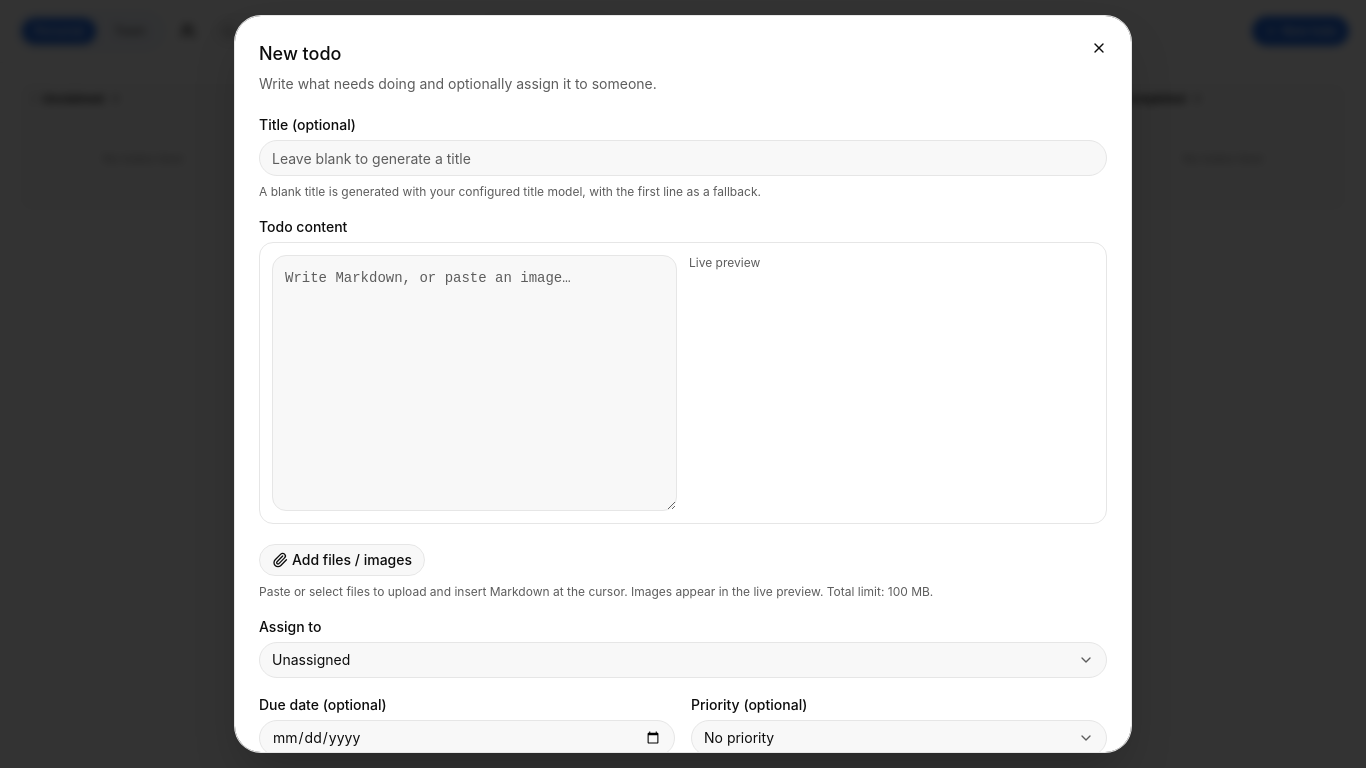
Test case: independent todo board › carries a conversation share request through the todo editor
Step 1. Type "Follow up on this conversation" into the text box labelled "Todo content" → (474,383), box [272,255,677,511]
(page scrolled)
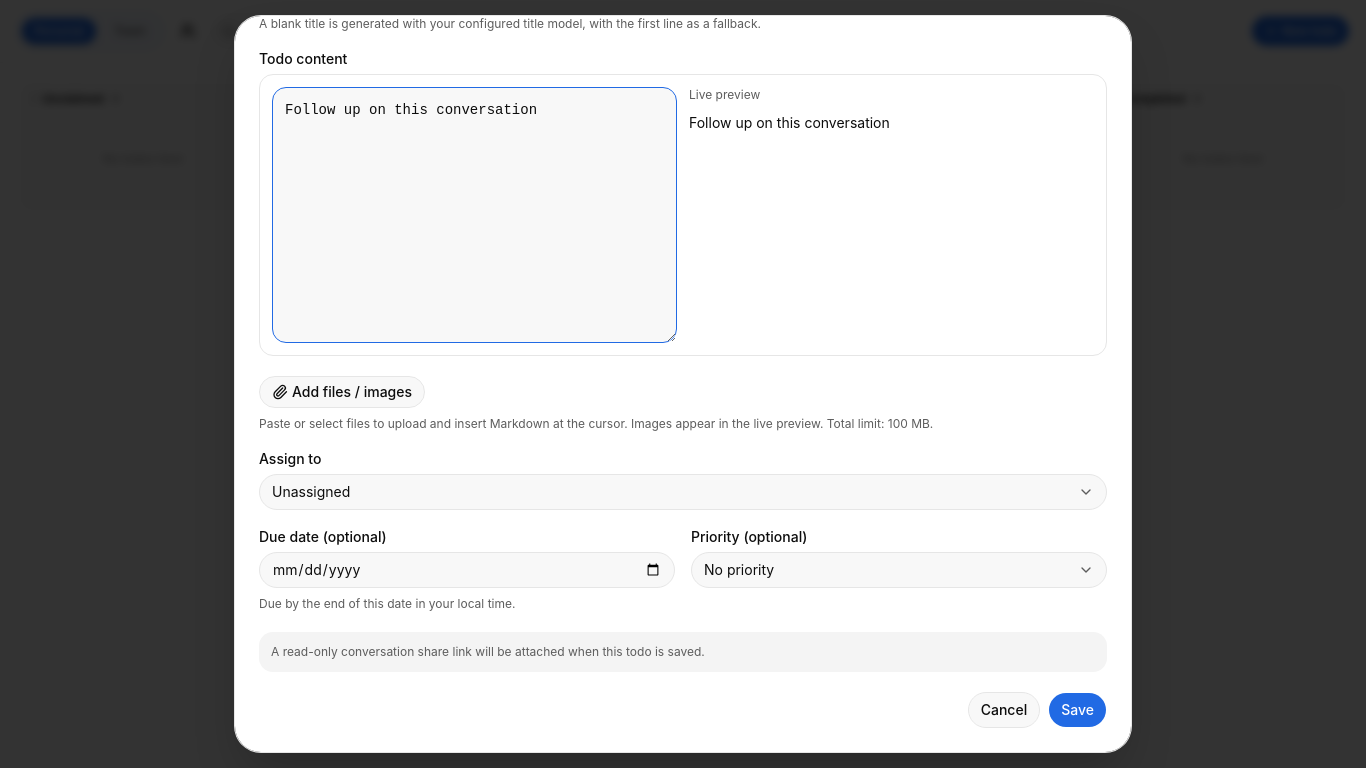
Step 2. Click the button "Save" → (1078,710), box [1048,692,1107,728]
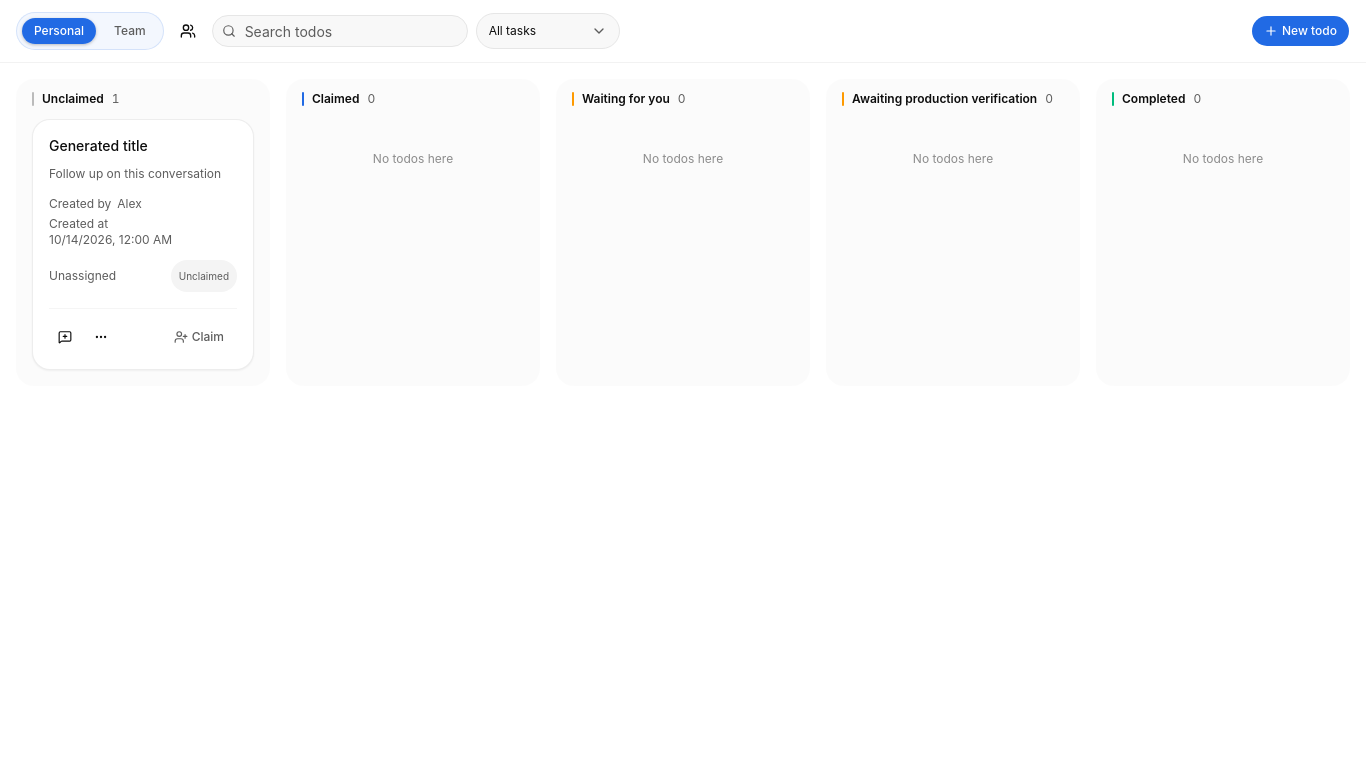
Now the heading "Generated title" is shown, box [49,137,148,154]
